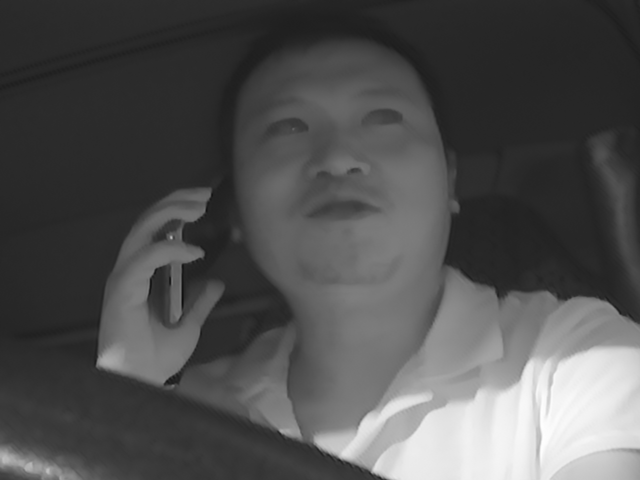hand: (97, 182, 227, 379)
